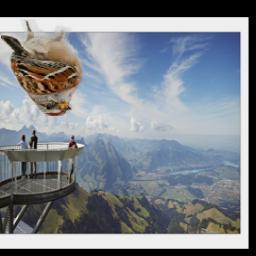Sparrow: (1, 20, 84, 117)
